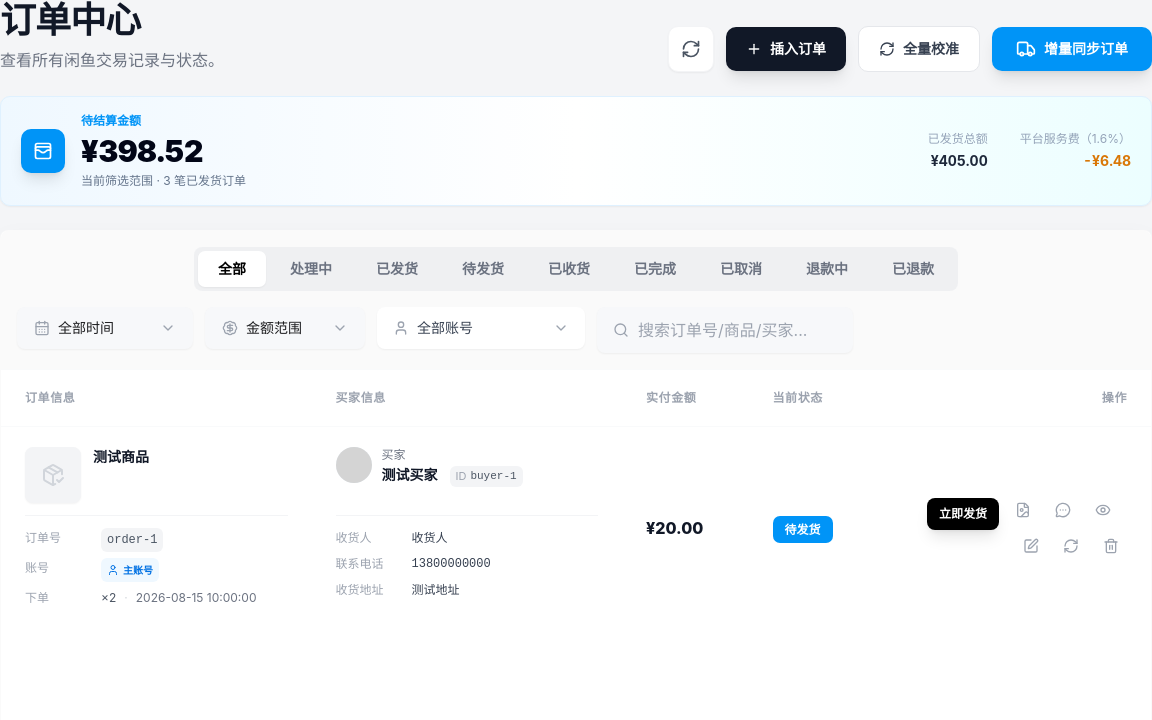
Scenario: OrderList 页面组合行为 › 已成功求花的订单重开详情后保持禁用并提示同步延迟
This screenshot has width=1152, height=720.
What coordinates should you click on to do the following:
click the button titled "查看详情"
I would click on:
 (1103, 510)
Its box is [1087,494,1119,526].
(page scrolled)
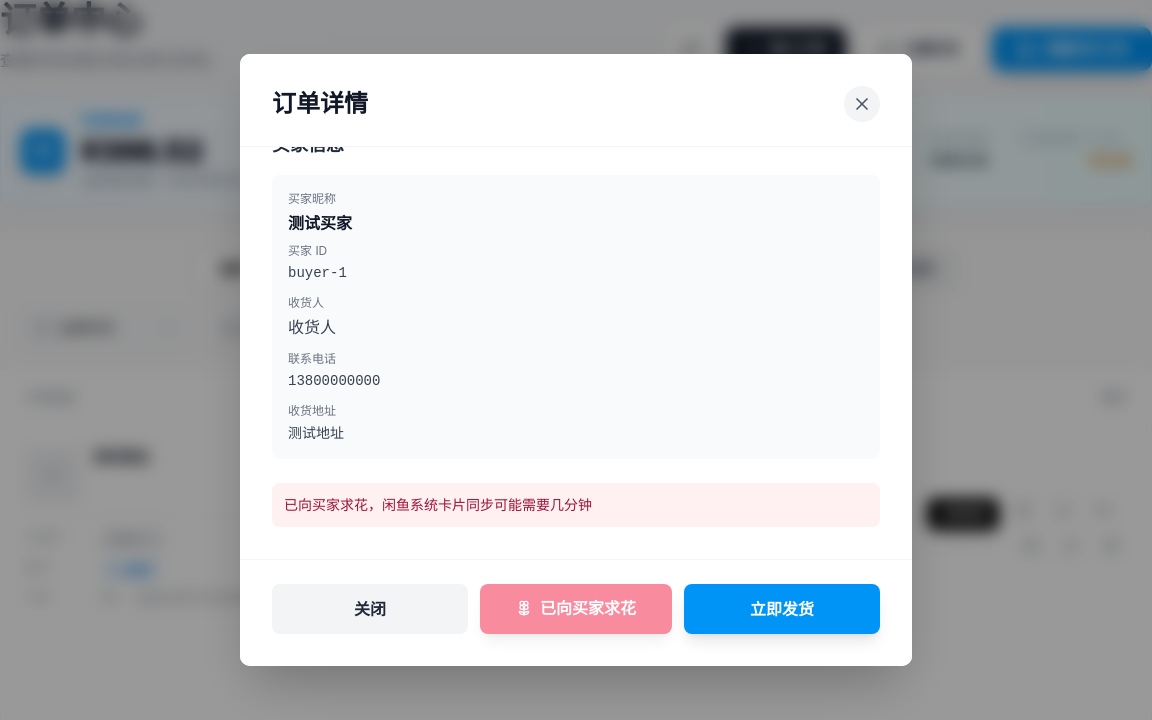
Expected: the button "已向买家求花" is disabled, [480,584,672,634]
Expected: the text "已向买家求花，闲鱼系统卡片同步可能需要几分钟" is shown, [272,483,880,527]
